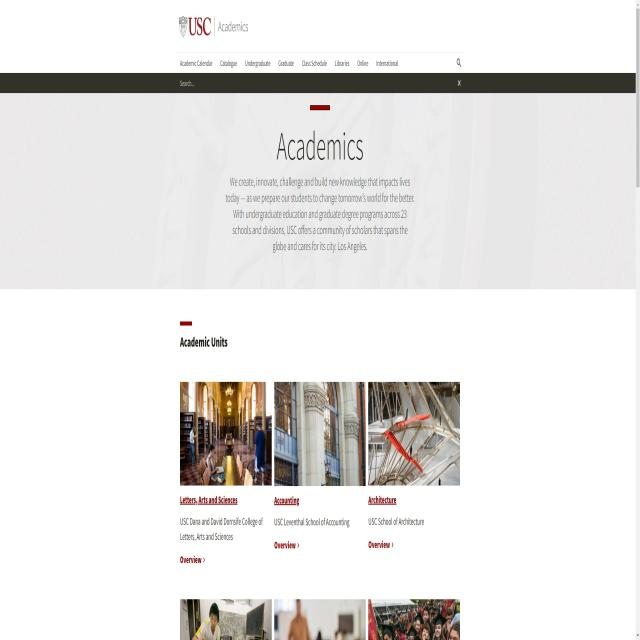menu-bar: (179, 55, 399, 70)
search: (180, 73, 238, 94)
